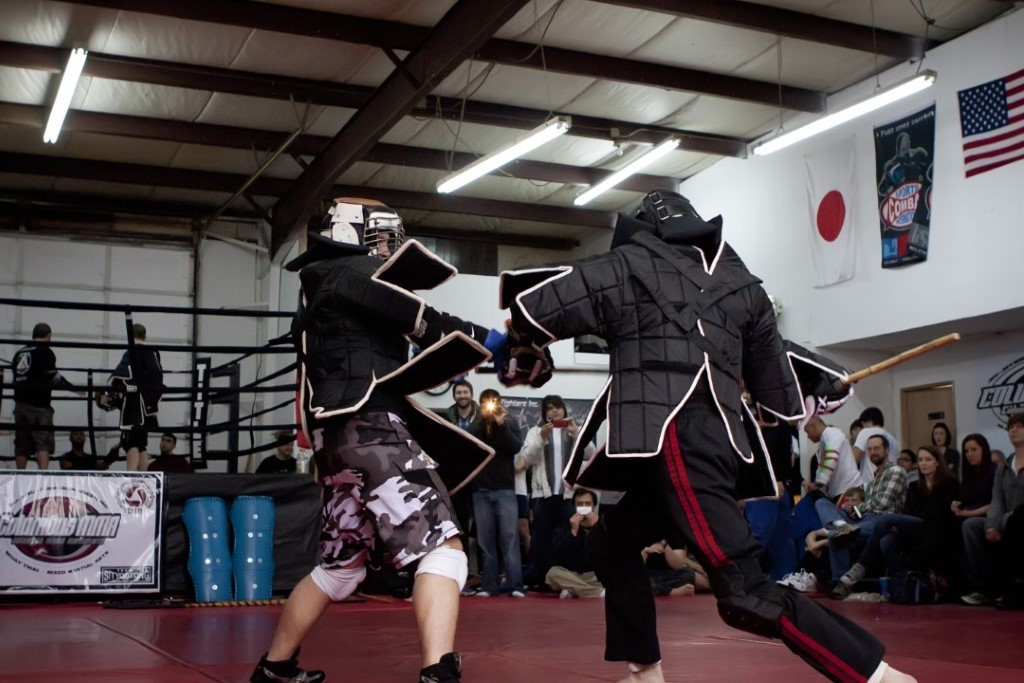baston_e: (850, 332, 954, 383)
baston_v: (948, 325, 962, 344)
